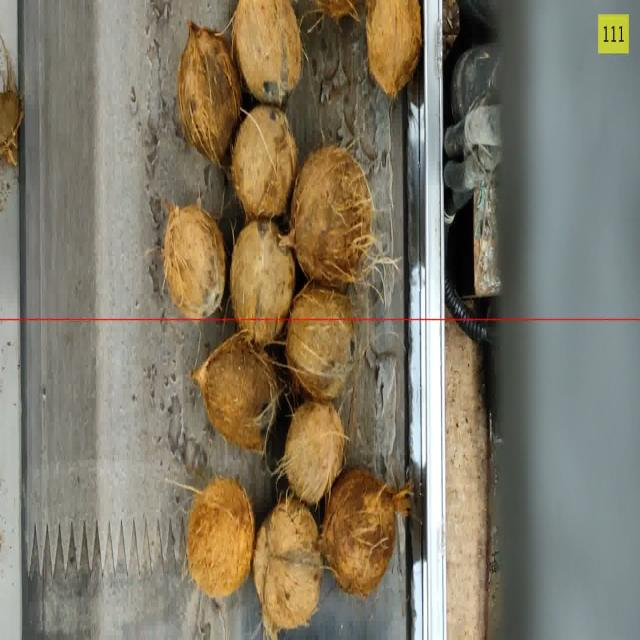Coconut-Conveyor-Belt: (288, 146, 373, 286), (322, 470, 410, 596), (192, 333, 279, 450), (253, 499, 322, 639), (177, 21, 238, 162), (187, 478, 254, 597), (230, 220, 294, 344), (286, 286, 355, 401), (231, 105, 297, 219), (163, 201, 225, 318), (233, 0, 302, 104), (280, 401, 344, 504), (366, 0, 422, 98), (0, 37, 23, 165), (316, 0, 359, 19)
